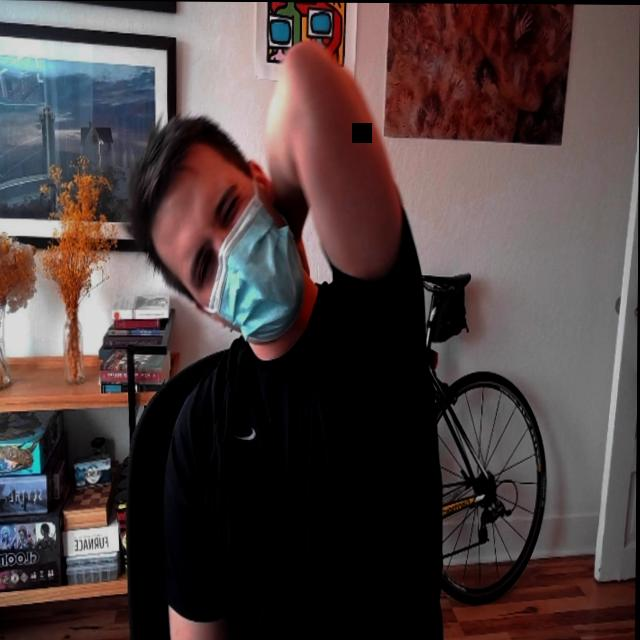Mask: (149, 141, 306, 346)
